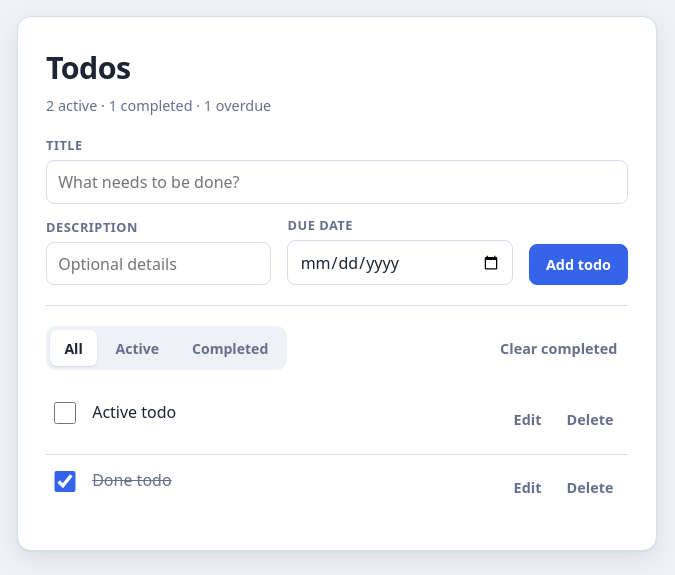
Test: App › switches filters and requests the matching query
Expected: the text "Done todo" is shown, [92, 469, 172, 491]
Step 1. Click the button "Active" → click(137, 348), box [101, 330, 174, 366]
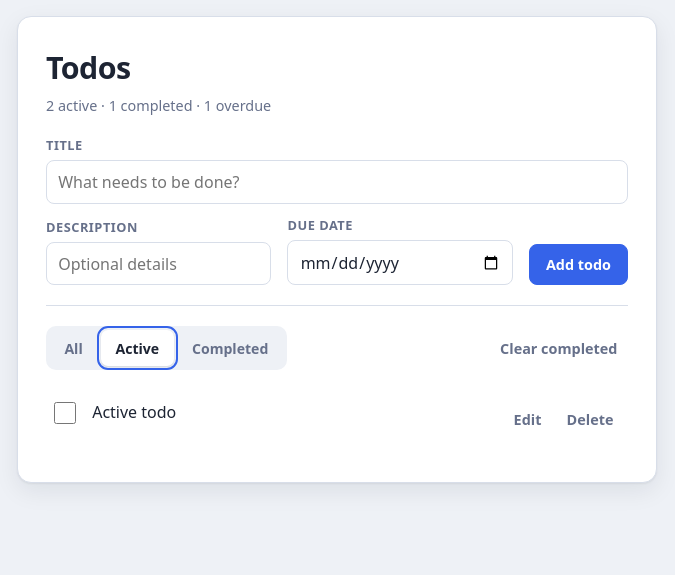
Expected: the text "Active todo" is shown, [92, 401, 176, 423]
Expected: the text "Done todo" is gone
